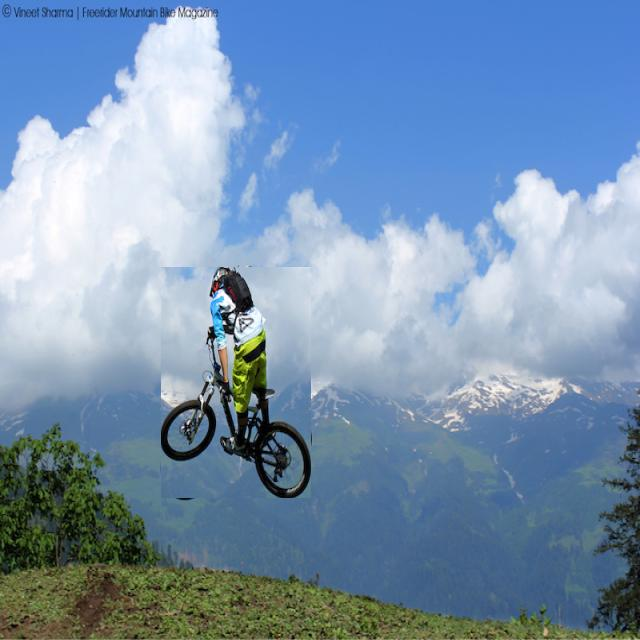bicycle: (161, 268, 311, 498)
